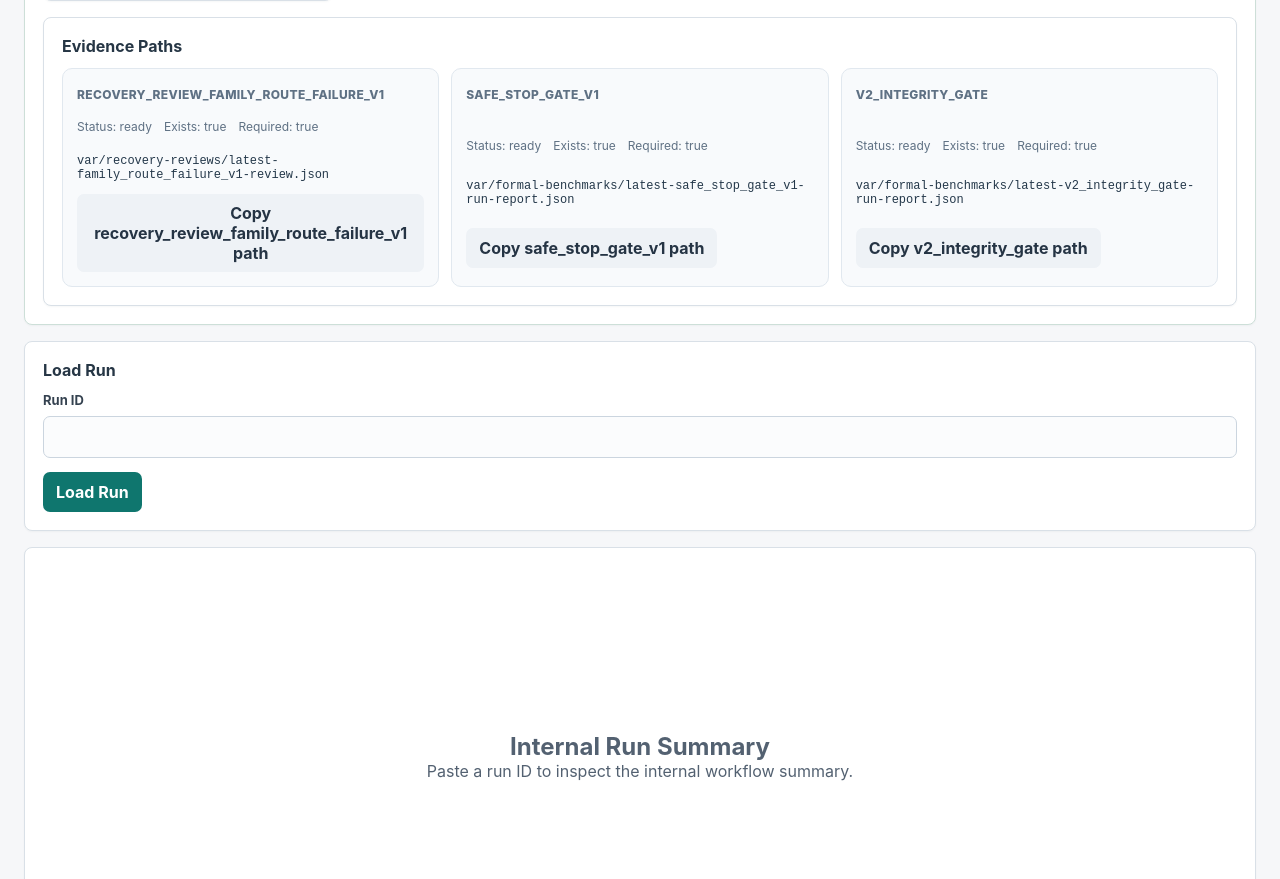
Test: ObservabilityPage › shows a neutral state when workflow timing is missing
This screenshot has width=1280, height=879.
(page scrolled)
Type "run-1" into the field labelled "Run ID" at (640, 436), box [43, 416, 1237, 458]
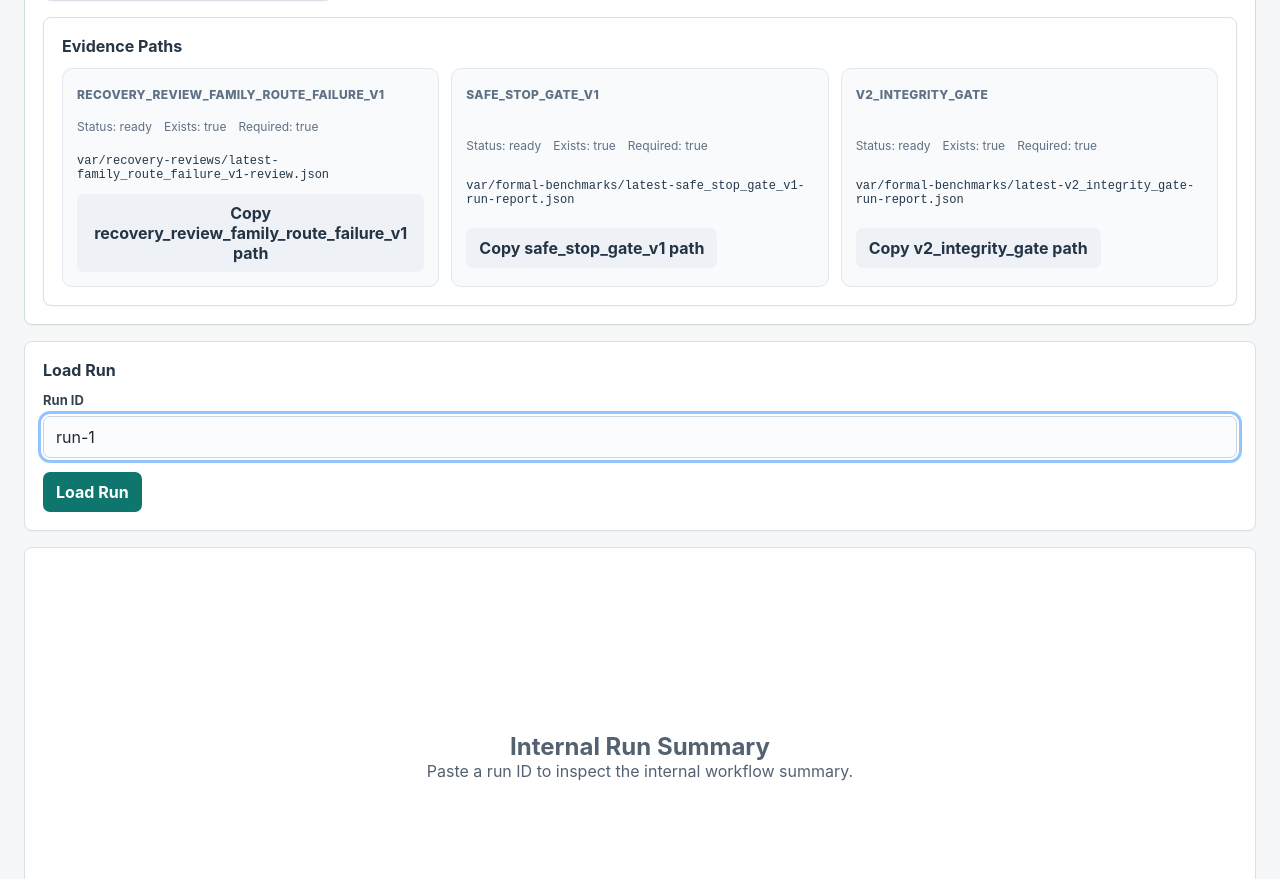
Click the button "Load Run" at (92, 492), box [43, 472, 142, 512]
(page scrolled)
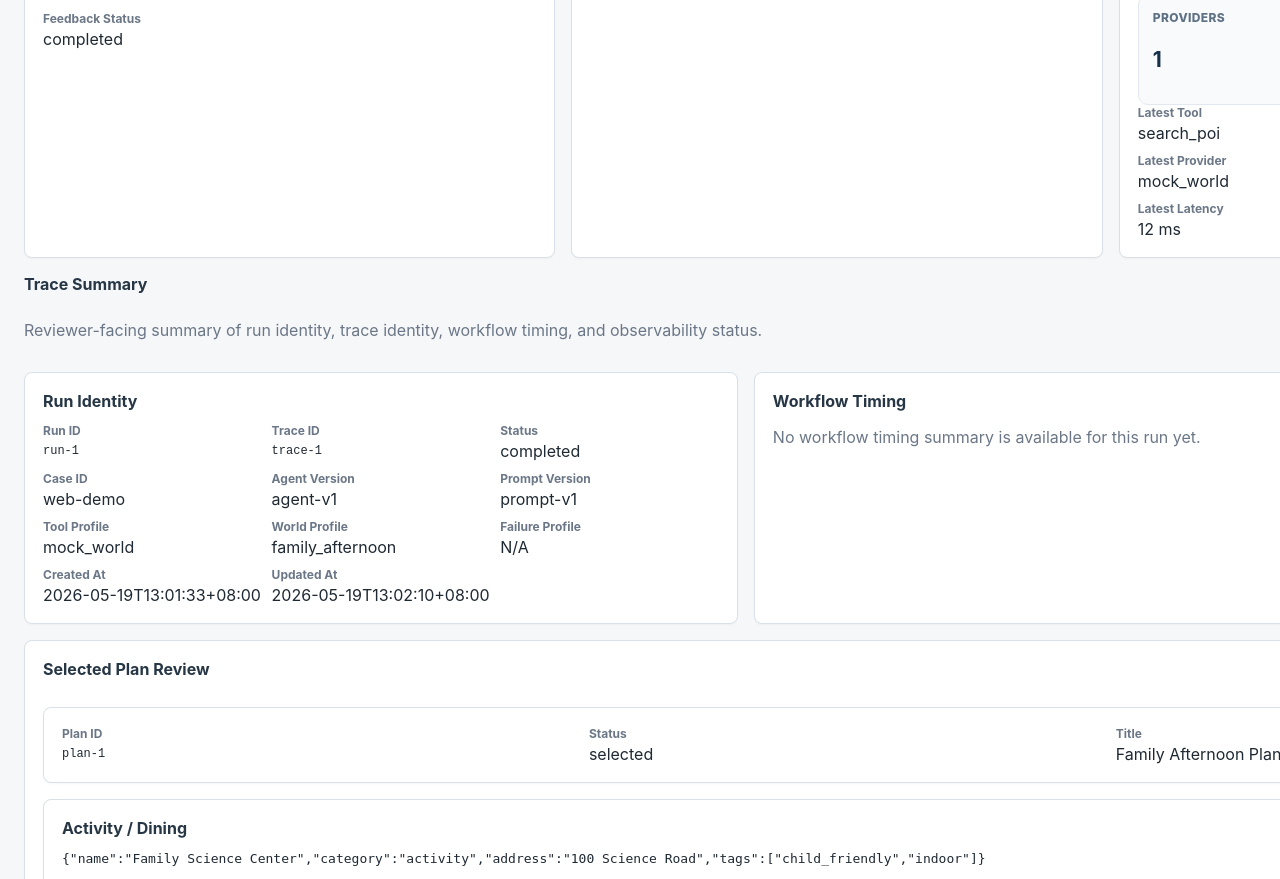
expect the text "No workflow timing summary is available for this run yet." is shown: met, box [773, 426, 1201, 446]
